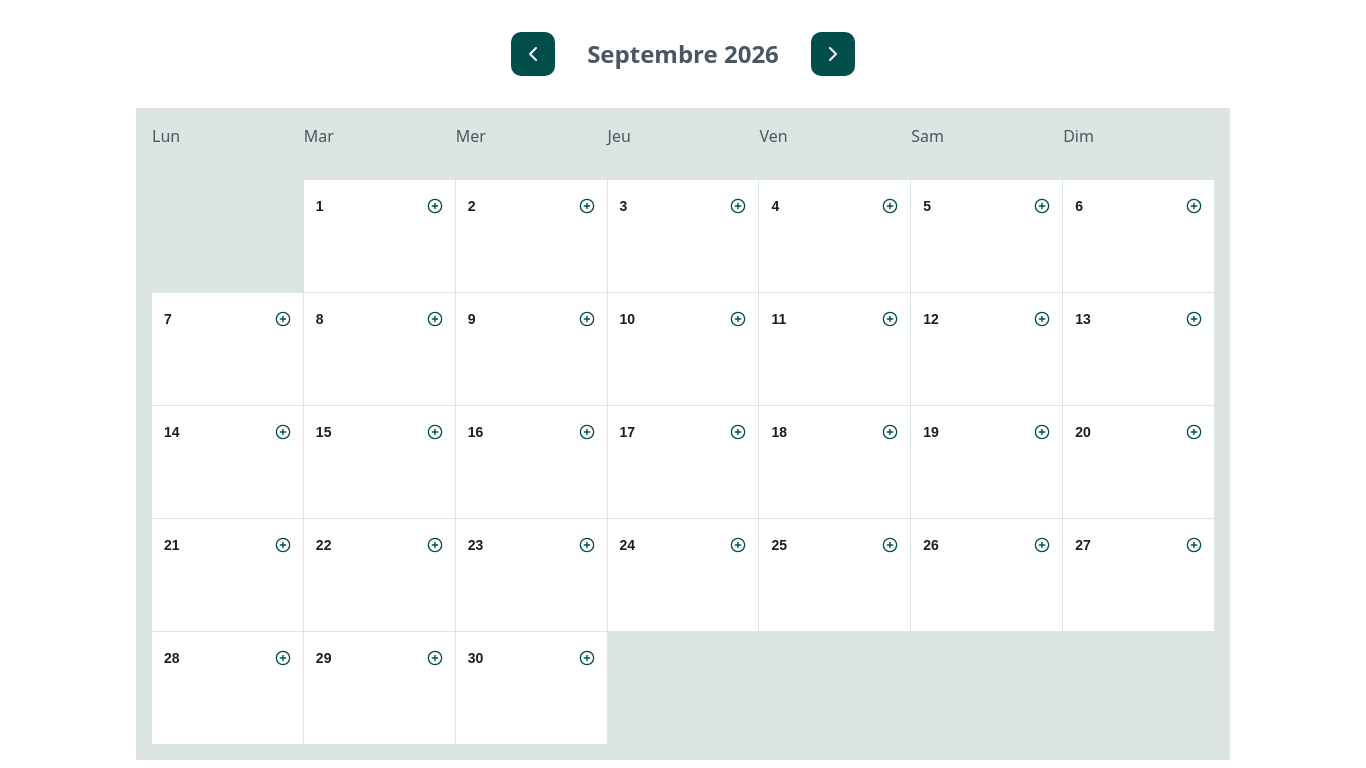
it: Calendar › creates and displays an event on a selected day
The width and height of the screenshot is (1366, 768).
Click the button named "Ajouter un événement le 9 septembre 2026": (531, 319) [464,301,599,337]
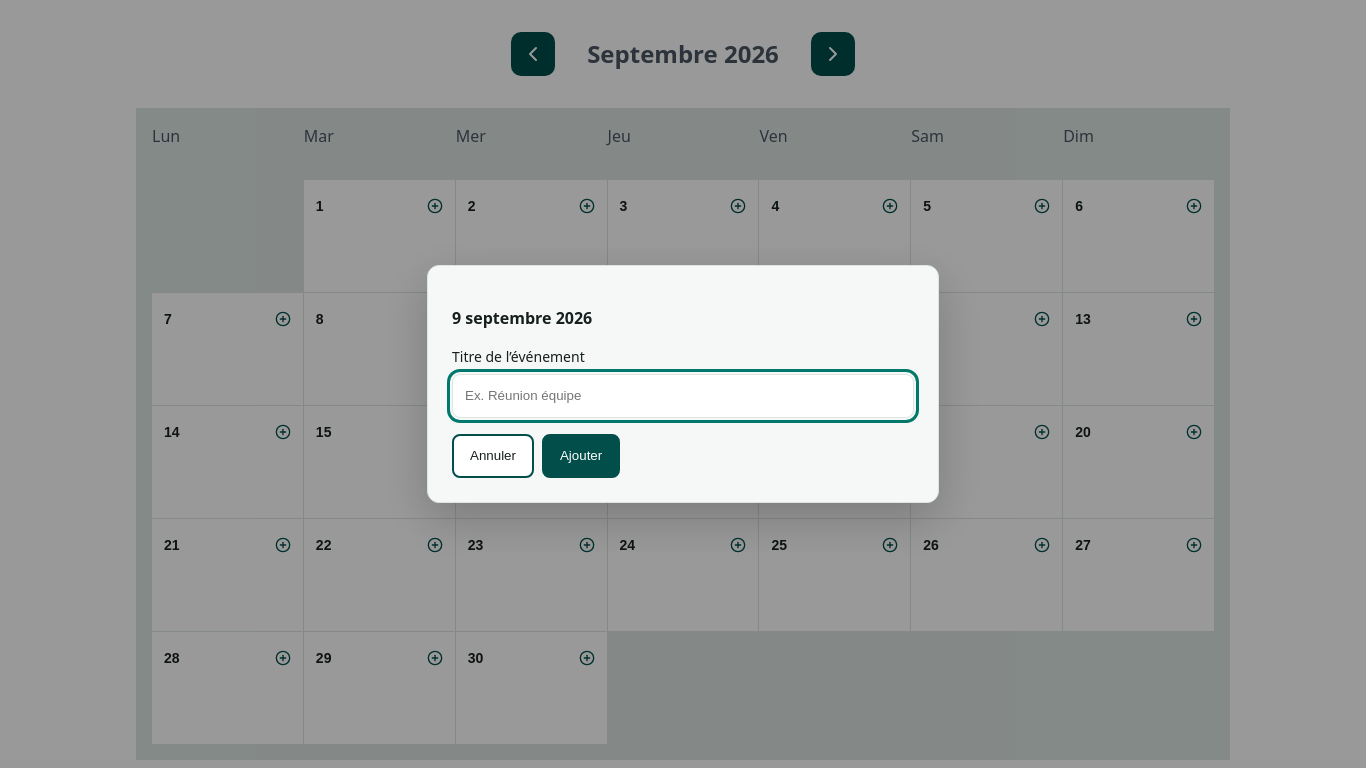
Now the form named "Ajouter un événement" is shown, box [427,265,939,503]
In the field labelled "Titre de l’événement": (683, 396) [452,374,914,418], type "Réunion équipe"
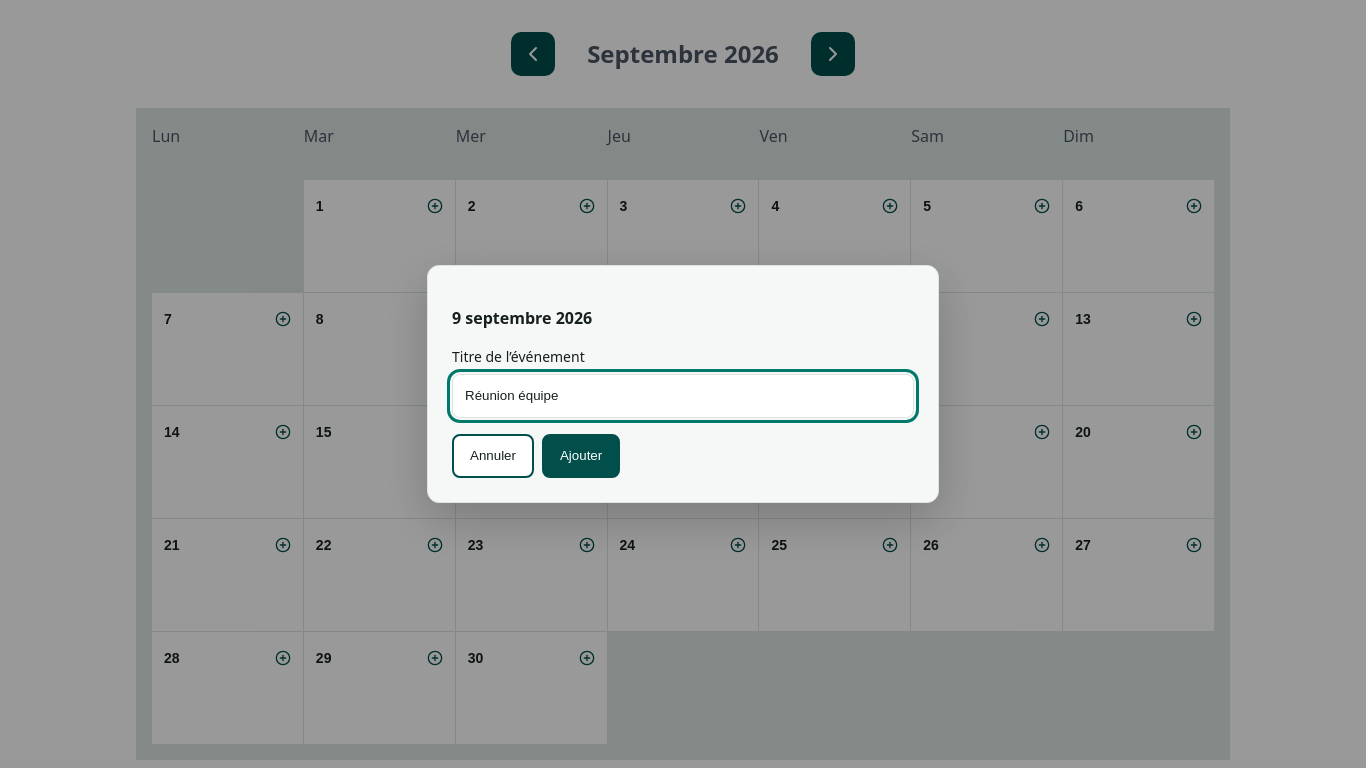
Click the button "Ajouter": (581, 456) [542,434,620,478]
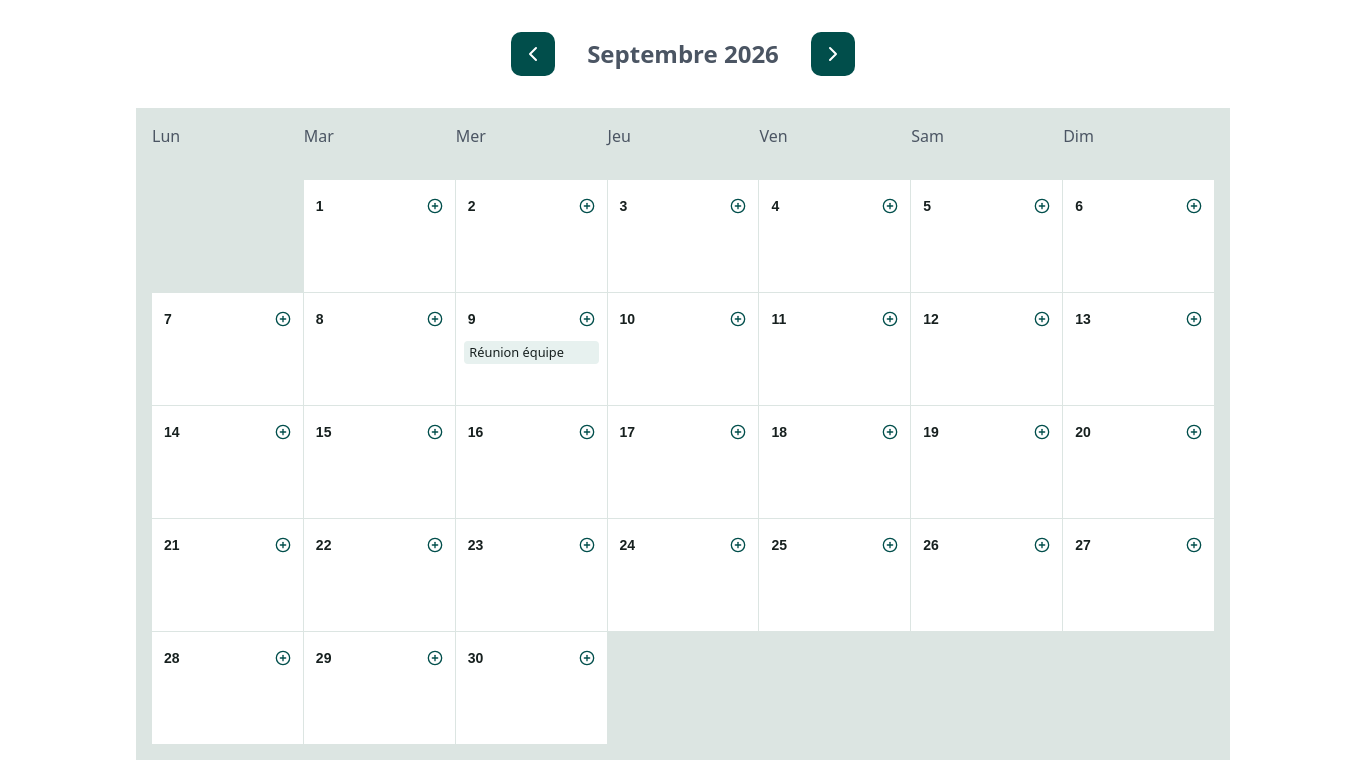
Now the button with aria-label "Modifier l'événement Réunion équipe" is shown, box [464,341,599,364]
